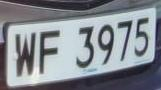3: (72, 23, 97, 71)
5: (132, 14, 152, 59)
7: (114, 16, 135, 65)
9: (95, 17, 117, 69)
F: (38, 25, 65, 80)
W: (12, 27, 38, 82)
